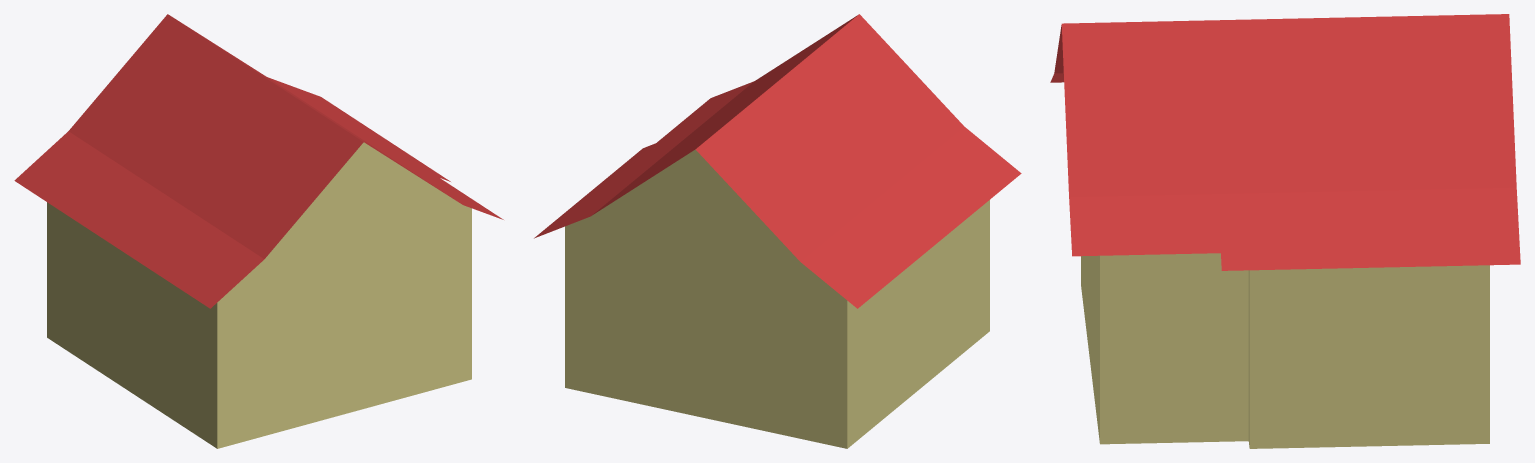
The picture shows the model from 3 angles, left to right: view 1: azimuth 30°, elevation 25°; view 2: azimuth 150°, elevation 25°; view 3: azimuth 270°, elevation 25°; orthographic projection. The views are drawn at different scales.
Bounding box in the file's own units: 15.95 × 16.04 × 13.01.
